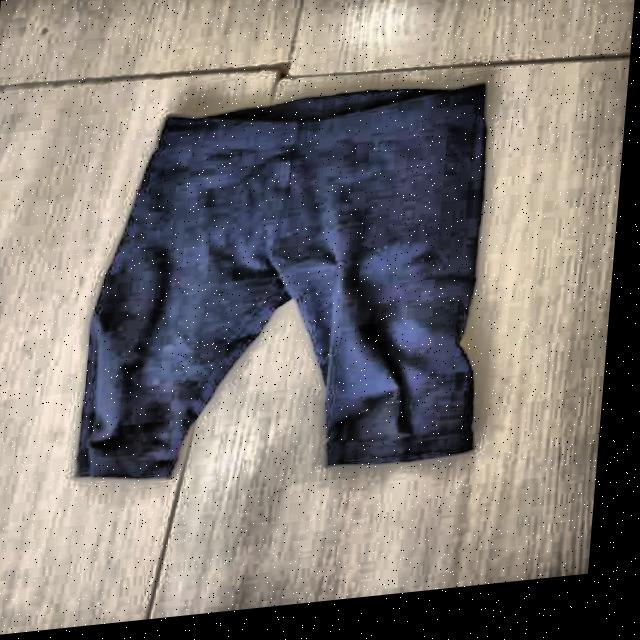clothes: (67, 69, 504, 495)
